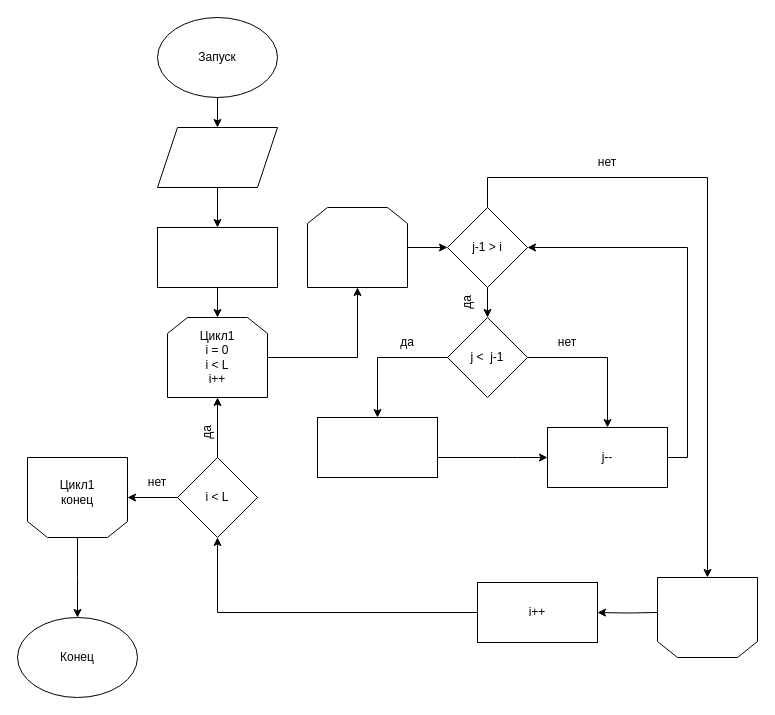
Some shapes in this 775 by 715 pixel diagram are drawn without their labels. Here are the shapes that lost their labels. From the top down, the box of each, then its label:
(156, 126, 278, 188): Считываем массив x
(156, 226, 278, 288): Определям колличество элементов L = x.lenght
(306, 206, 408, 288): Цикл2 j=L-1 j > i j--
(316, 416, 438, 478): меняем местами j и j-1
(656, 576, 758, 658): Цикл2 конец
